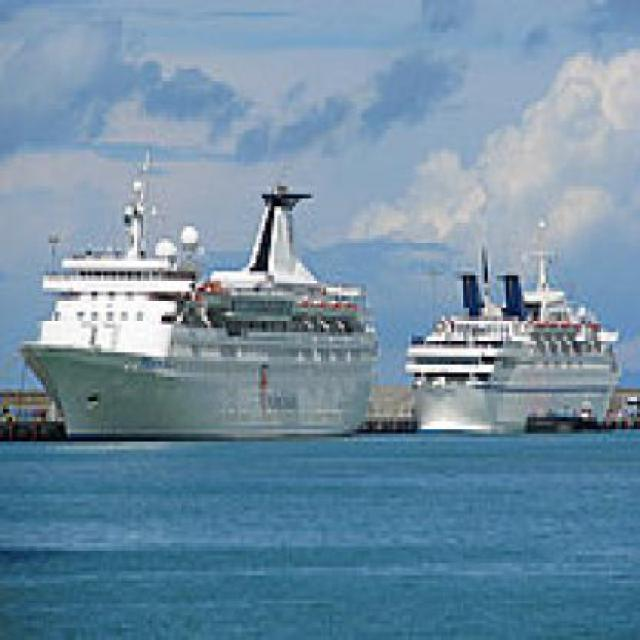cruise: (40, 139, 382, 443), (401, 232, 623, 459)
